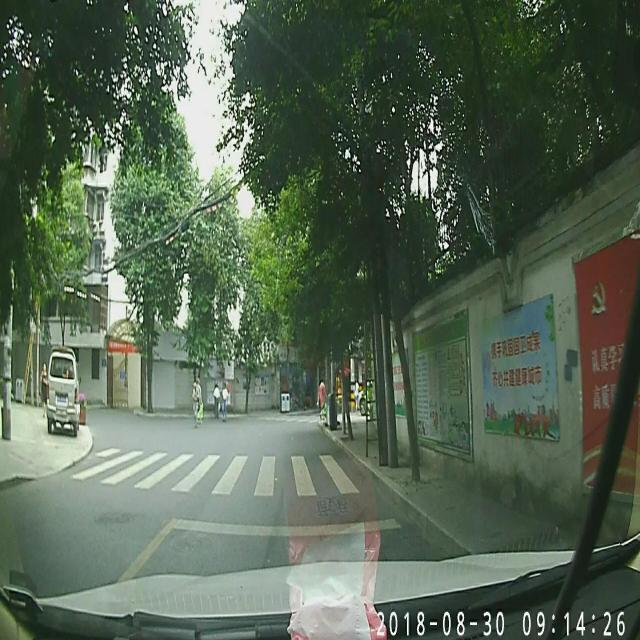car: (44, 348, 80, 434)
